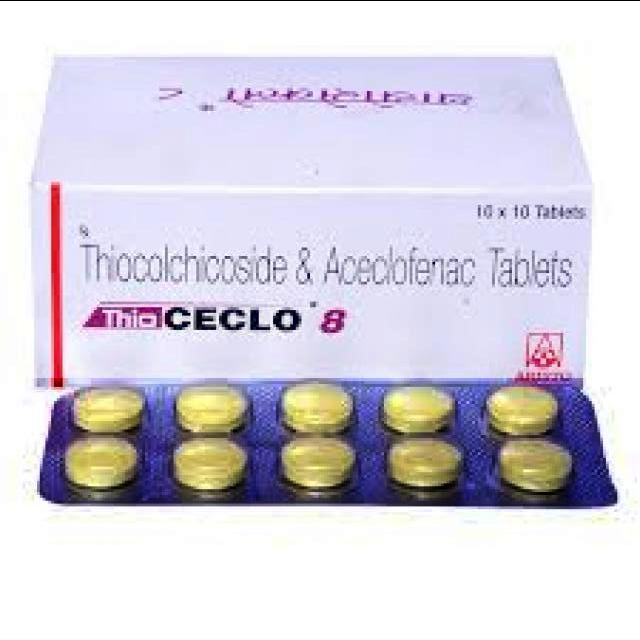authentic: (20, 45, 614, 383), (10, 378, 640, 524)
